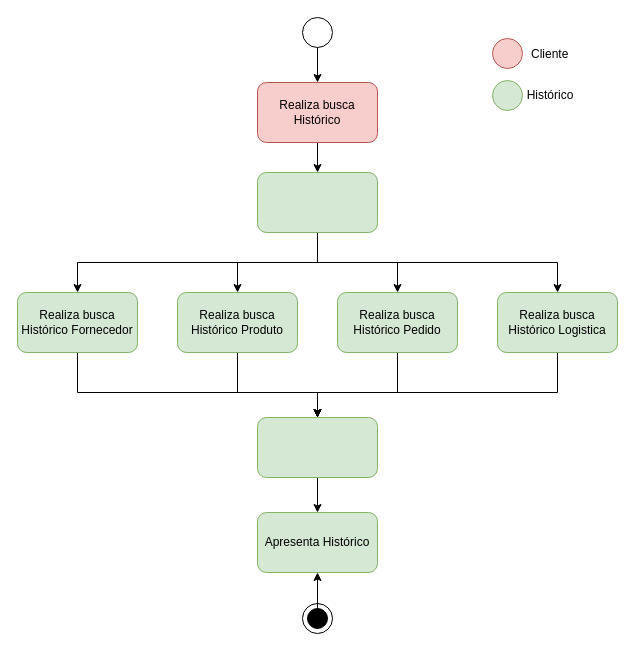
Some shapes in this 635 by 651 pixel diagram are drawn without their labels. Here are the shapes that lost their labels. From the top down, the centre of each, then its label:
At [317,202]: "Verifica Tipo Histórico".
At [317,447]: "Compõe Histpórico".
